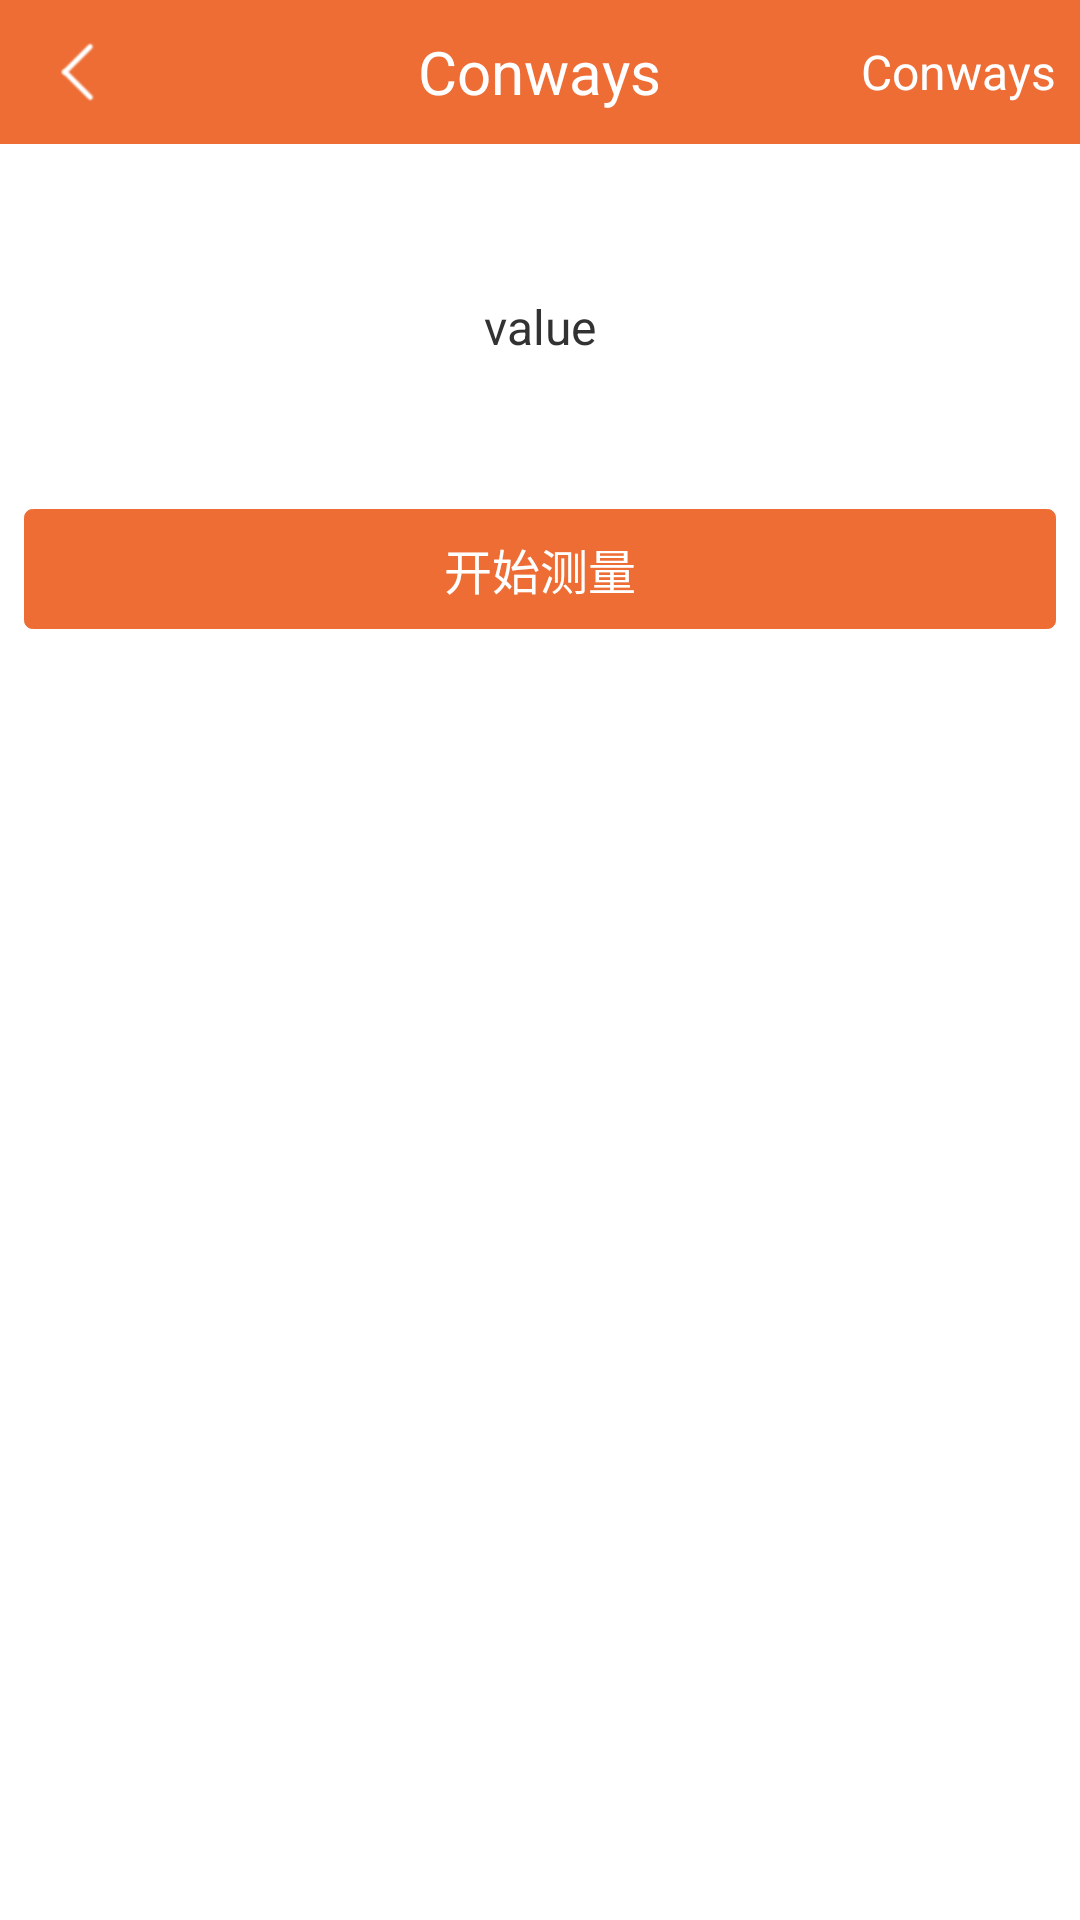

Locate icon controls on the screen. Image size 1080px x 1920px, boxes as (x1, y1, x2, y2).
arrow back: (61, 43, 94, 101)
